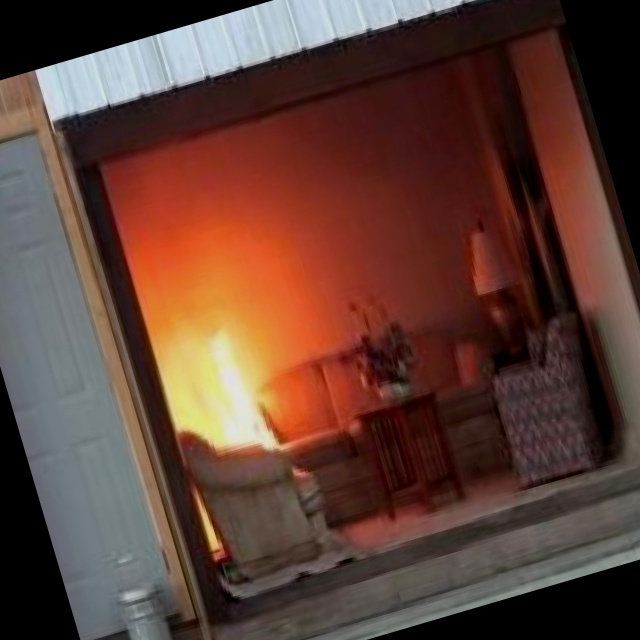fire: (159, 316, 294, 477)
